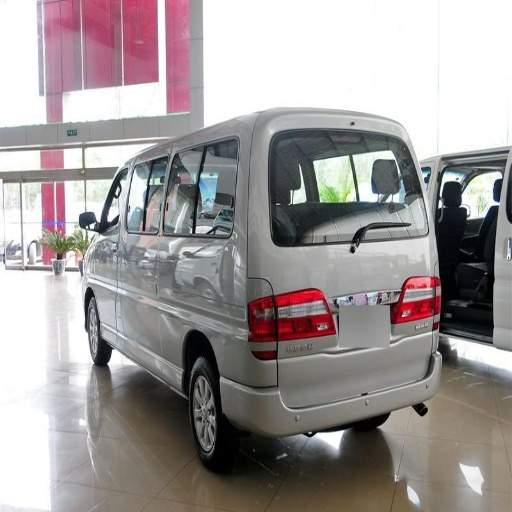back_bumper: (222, 353, 438, 440)
back_glass: (275, 131, 356, 169), (368, 156, 417, 209), (323, 164, 358, 203)
back_left_light: (247, 294, 279, 358)
tailgate: (330, 219, 419, 255)
trunk: (260, 240, 432, 401), (147, 237, 255, 380)
